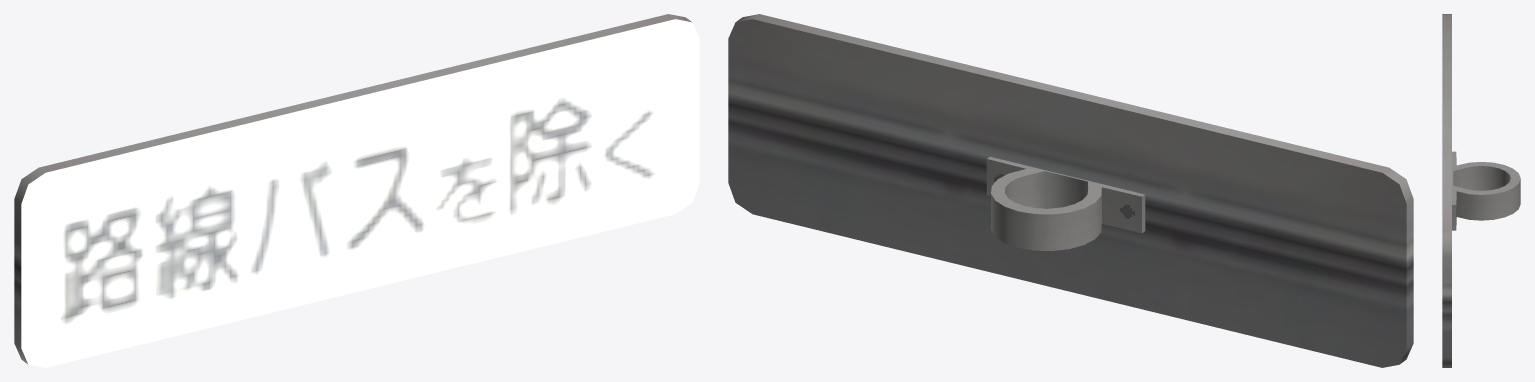
The model's file is ExceptBusses.glb.
The picture shows the model from 3 angles, left to right: view 1: azimuth 30°, elevation 25°; view 2: azimuth 150°, elevation 25°; view 3: azimuth 270°, elevation 25°; orthographic projection. The views are drawn at different scales.
Visible parts, largest first — view 1: 補助標示; view 2: 補助標示; view 3: 補助標示.
Boxes of the visible parts, x1=… form: 補助標示: x1=14, y1=14, x2=699, y2=367; 補助標示: x1=728, y1=14, x2=1413, y2=367; 補助標示: x1=1442, y1=14, x2=1520, y2=367.
Size of the model in its own units: 0.56 by 0.154 by 0.08.
Materials: 3 (3 with a texture image).
